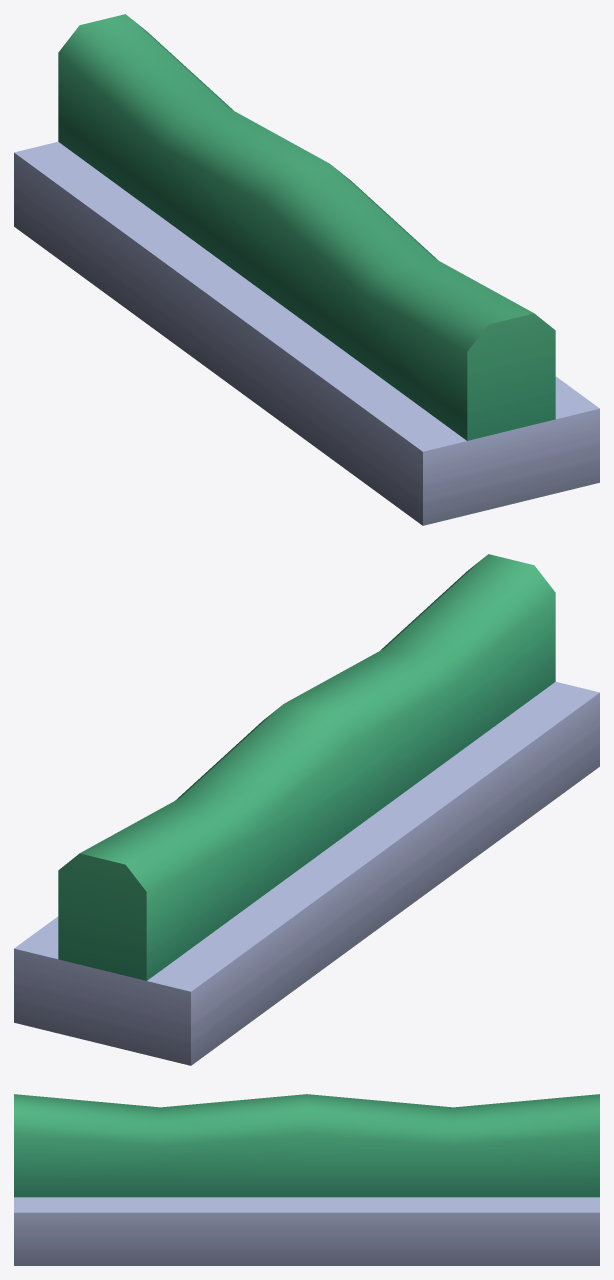
File: ot-hedge.glb
3 views of the same model, one above another, from view 1: azimuth 30°, elevation 25°; view 2: azimuth 150°, elevation 25°; view 3: azimuth 270°, elevation 25° (orthographic). The views are drawn at different scales.
Parts seen in each view (by area): view 1: hedge; view 2: hedge; view 3: hedge.
Part boxes in pixels (x1=…): hedge: x1=14, y1=14, x2=599, y2=525; hedge: x1=14, y1=554, x2=599, y2=1065; hedge: x1=14, y1=1094, x2=599, y2=1265.
Size of the model in its own units: 0.25 by 0.25 by 1.
1 material, 1 textured.
